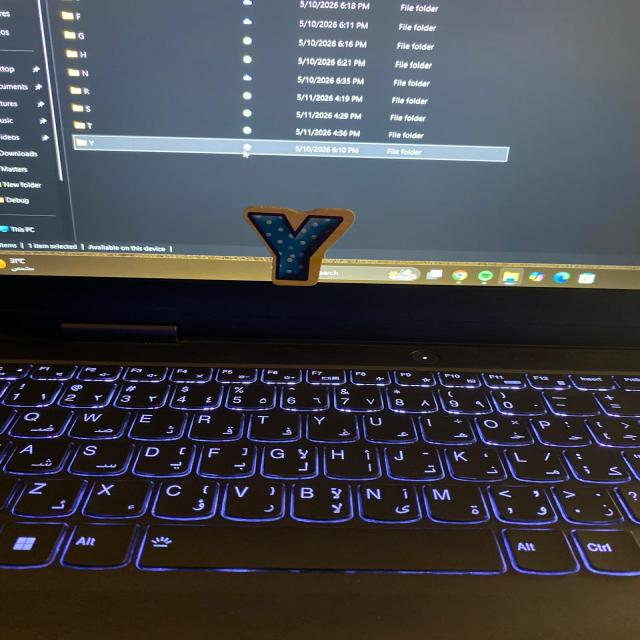Y: (244, 207, 354, 286)
